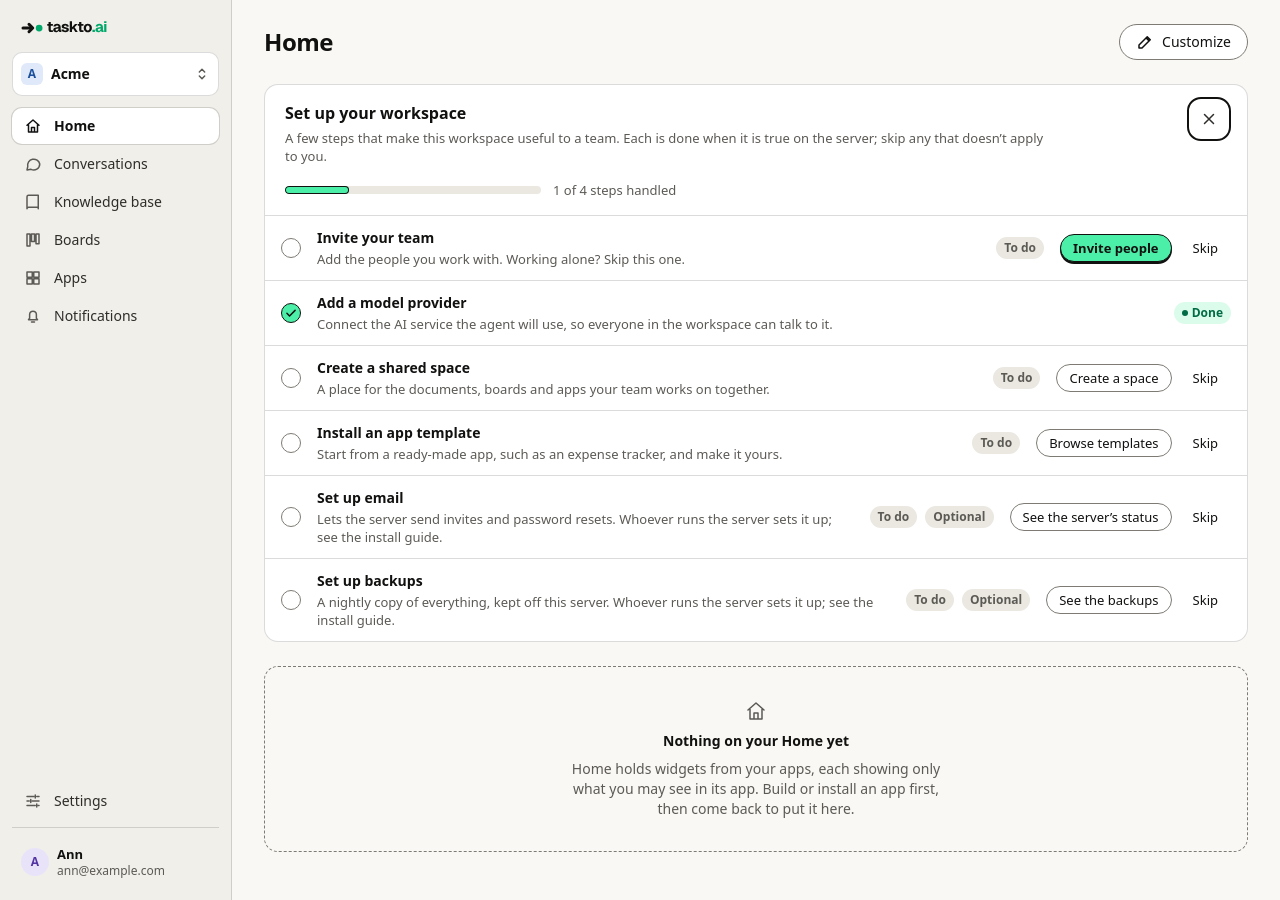
a dismissal that fails leaves the checklist, and the keyboard, where they were
Click the button named "Dismiss checklist". click: (1209, 119)
box: left=1191, top=101, right=1227, bottom=137
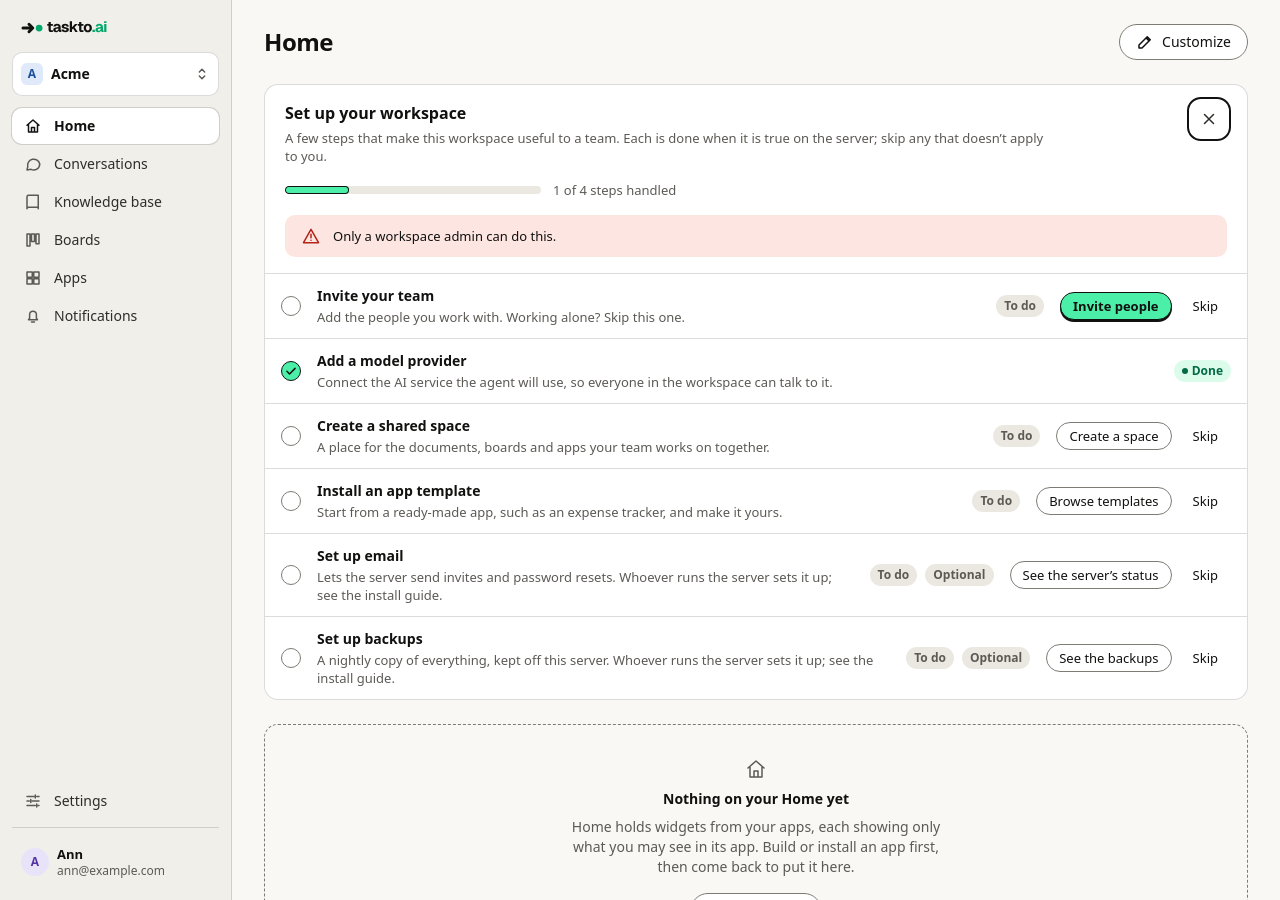
Now the message "Only a workspace admin can do this." is shown, box left=285, top=215, right=1227, bottom=257
